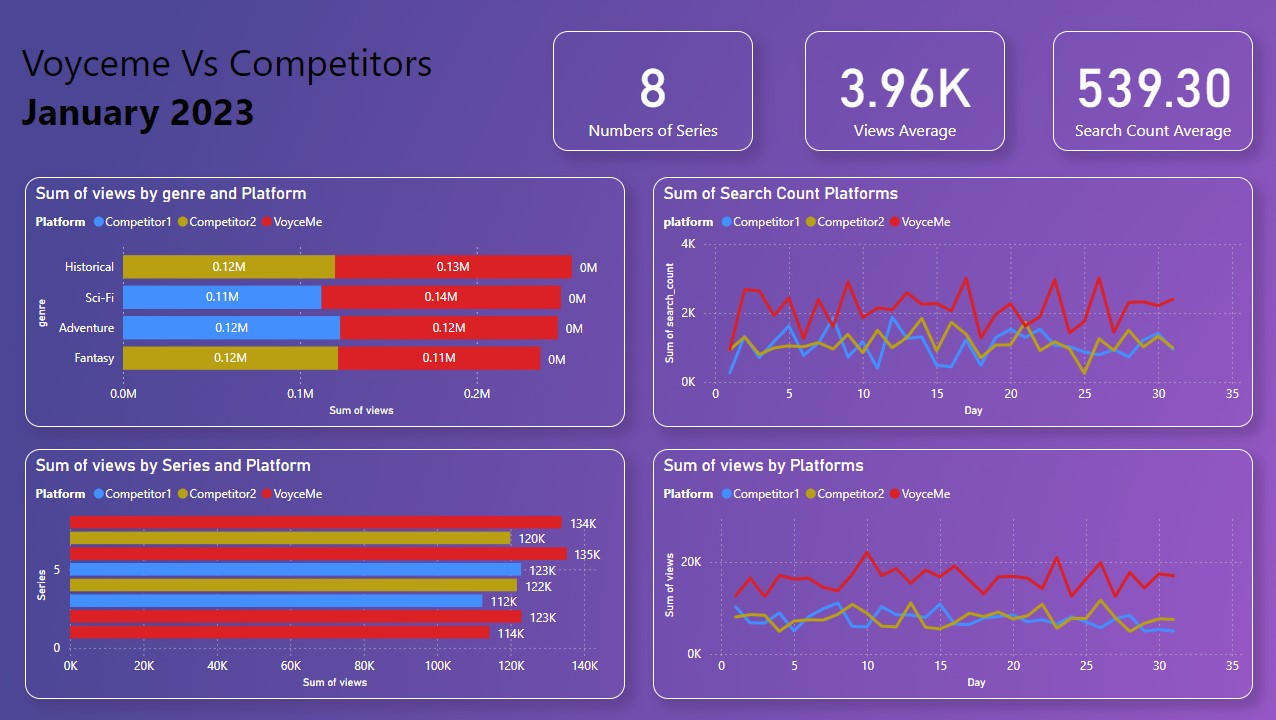

The dashboard page shown, as its layout file describes it:
{"tool":"powerbi","page":{"name":"Page 1","canvas":[1280,720],"ordinal":0},"visuals":[{"type":"textbox","box":[17,31,462,132],"z":0},{"type":"barChart","fields":{"Category":["series.genre"],"Y":["Sum(transactions.views)"],"Series":["series.platform"]},"box":[25,177,600,250],"z":1000},{"type":"card","fields":{"Values":["CountNonNull(series.series_id)"]},"box":[553,31,200,120],"z":2000},{"type":"card","fields":{"Values":["Avg(transactions.search_count)"]},"box":[1053,31,200,120],"z":3000},{"type":"barChart","fields":{"Y":["Sum(transactions.views)"],"Series":["series.platform"],"Category":["series.series_id"]},"box":[25,449,600,250],"z":4000},{"type":"lineChart","title":"Sum of views by Platforms","fields":{"Category":["transactions.date.Variation.Date Hierarchy.Day"],"Y":["Sum(transactions.views)"],"Series":["series.platform"]},"box":[653,449,600,250],"z":5000},{"type":"lineChart","title":"Sum of Search Count Platforms","fields":{"Y":["Sum(transactions.search_count)"],"Category":["transactions.date.Variation.Date Hierarchy.Day"],"Series":["series.platform"]},"box":[653,177,600,250],"z":6000},{"type":"card","fields":{"Values":["Avg(transactions.views)"]},"box":[805,31,200,120],"z":7000}]}

Visuals, with their boxes in screenshot pixels (x1, y1, x2, y2), scaled from the page's 1280x720 canvas onto the 1276x720 screenshot:
textbox: rect(17, 31, 478, 163)
barChart - series.genre x Sum(transactions.views): rect(25, 177, 623, 427)
card - CountNonNull(series.series_id): rect(551, 31, 751, 151)
card - Avg(transactions.search_count): rect(1050, 31, 1249, 151)
barChart - Sum(transactions.views) x series.platform: rect(25, 449, 623, 699)
"Sum of views by Platforms" lineChart: rect(651, 449, 1249, 699)
"Sum of Search Count Platforms" lineChart: rect(651, 177, 1249, 427)
card - Avg(transactions.views): rect(802, 31, 1002, 151)
